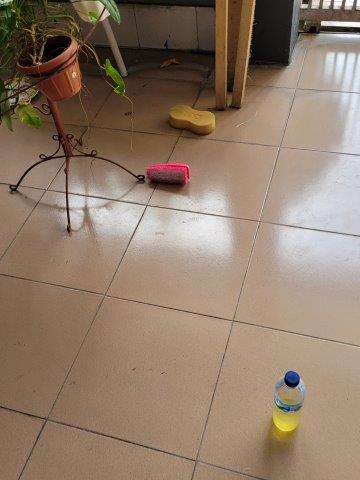botolplastik: (274, 372, 304, 433)
